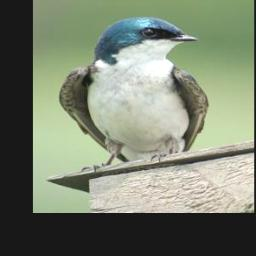Swallow: (59, 15, 211, 174)
